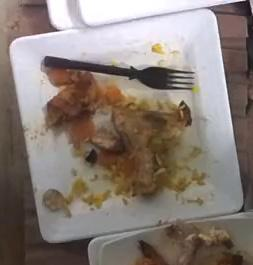carrots: (96, 149, 136, 181), (70, 117, 95, 143), (46, 68, 71, 86), (102, 87, 123, 105)
unknown: (46, 72, 104, 127)
